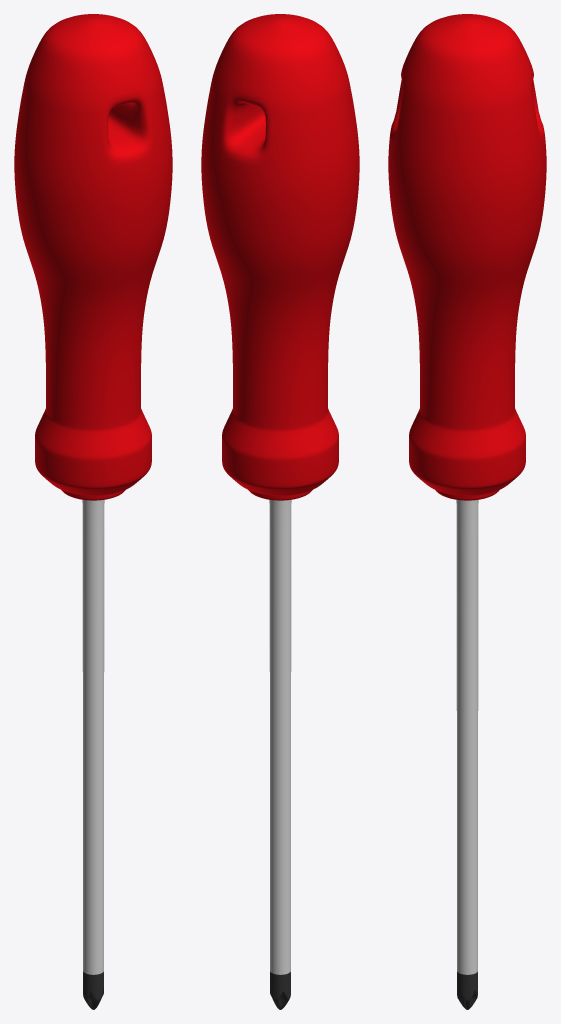
File: Screwdriver.fbx
3 renders of one model, left to right at view 1: azimuth 30°, elevation 25°; view 2: azimuth 150°, elevation 25°; view 3: azimuth 270°, elevation 25°, orthographic.
Visible parts, largest first — view 1: Cylinder; view 2: Cylinder; view 3: Cylinder.
Part boxes in pixels (left/top/right/bottom): Cylinder: left=14, top=14, right=172, bottom=1009; Cylinder: left=201, top=14, right=359, bottom=1009; Cylinder: left=388, top=14, right=546, bottom=1009.
Bounding box in the file's own units: 2.18 × 15.02 × 2.18.
